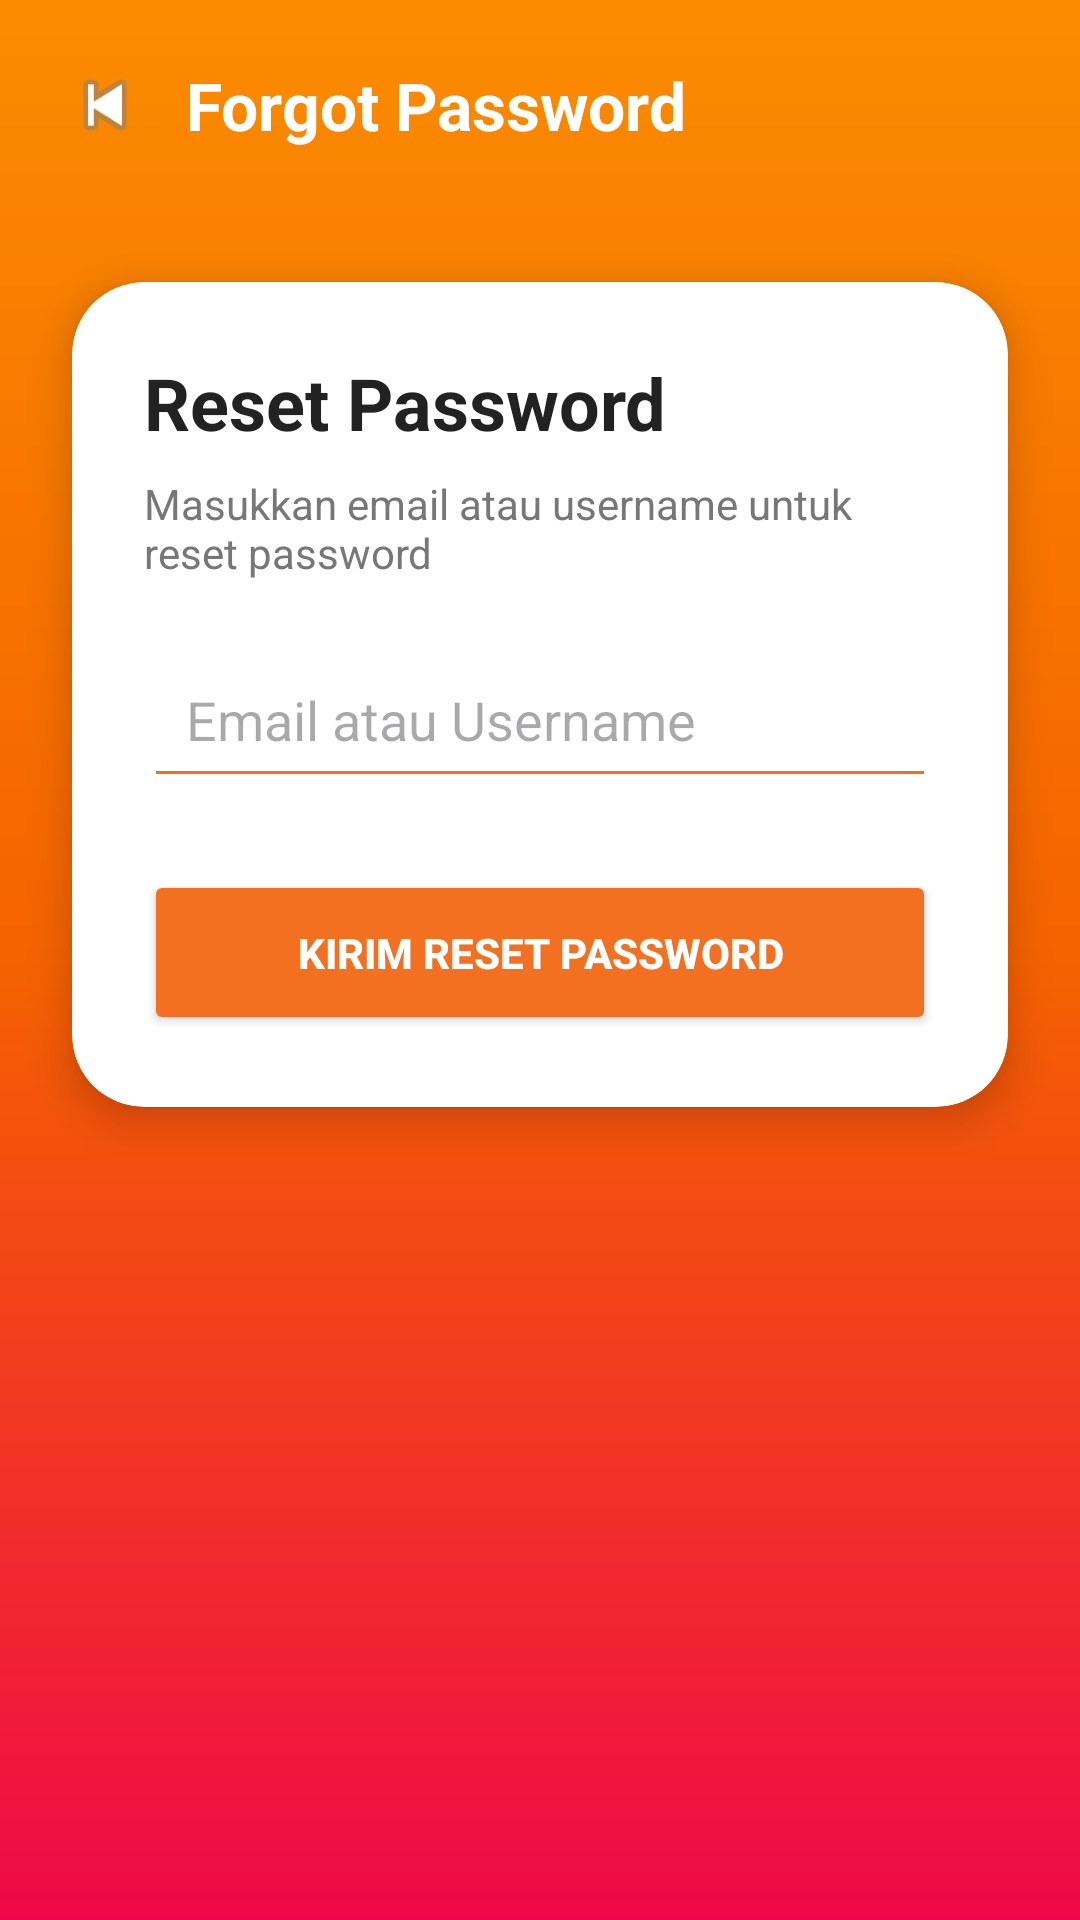

Where icons sit on this 1080px×1920px app screen, as (x1, y1, x2, y2):
previous: (83, 80, 127, 130)
